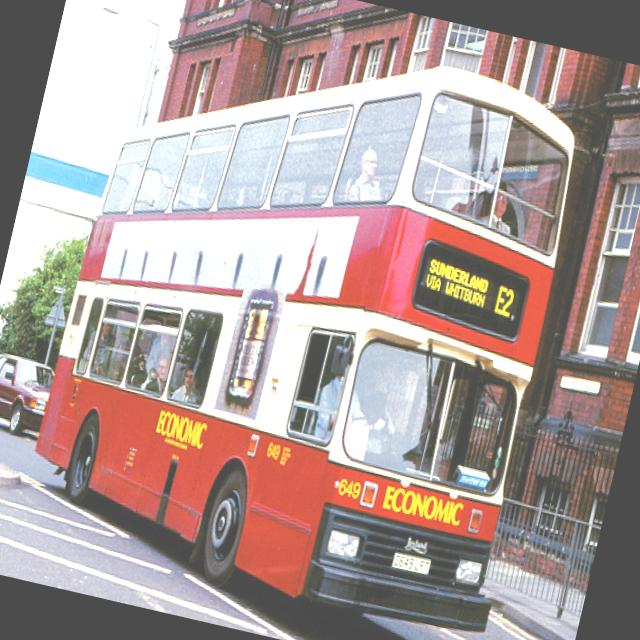Vehicle: (7, 0, 607, 640), (0, 346, 56, 437)
